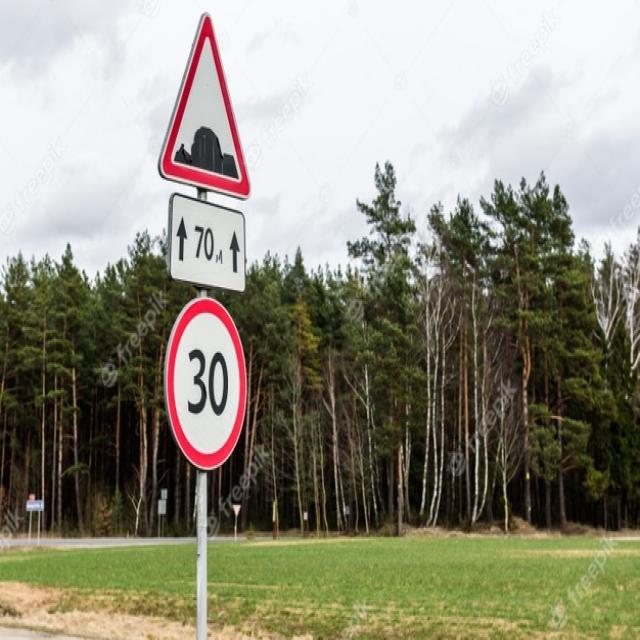Speed Limit -30-: (186, 347, 230, 417)
